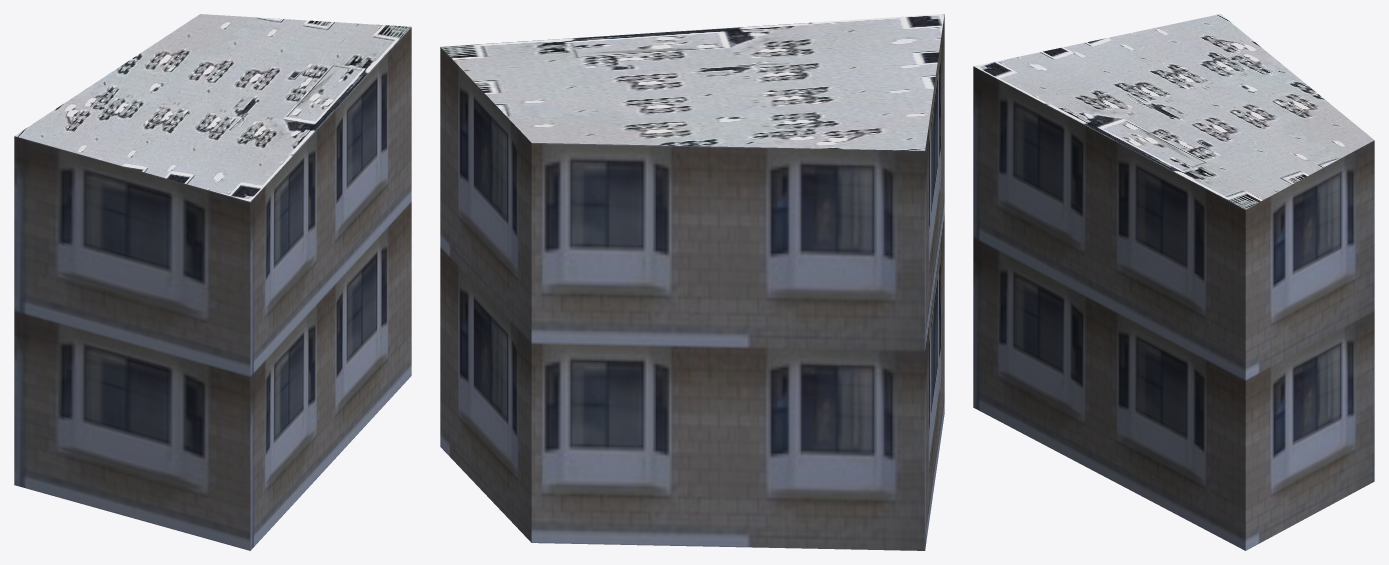
The model's file is ResTex__2764.fbx.
The picture shows the model from 3 angles, left to right: view 1: azimuth 30°, elevation 25°; view 2: azimuth 150°, elevation 25°; view 3: azimuth 270°, elevation 25°; orthographic projection. The views are drawn at different scales.
Parts seen in each view (by area): view 1: CityEngineMaterial_3_m, CityEngineMaterial_4_m; view 2: CityEngineMaterial_3_m, CityEngineMaterial_4_m; view 3: CityEngineMaterial_3_m, CityEngineMaterial_4_m.
Part boxes in pixels (x1,y1,x2,y2): CityEngineMaterial_3_m: (14, 27, 411, 550); CityEngineMaterial_4_m: (14, 14, 411, 201); CityEngineMaterial_3_m: (440, 14, 944, 550); CityEngineMaterial_4_m: (440, 14, 944, 150); CityEngineMaterial_3_m: (973, 66, 1374, 550); CityEngineMaterial_4_m: (974, 14, 1374, 209).
Size of the model in its own units: 7.38 by 6 by 6.39.
2 materials, 2 textured.
